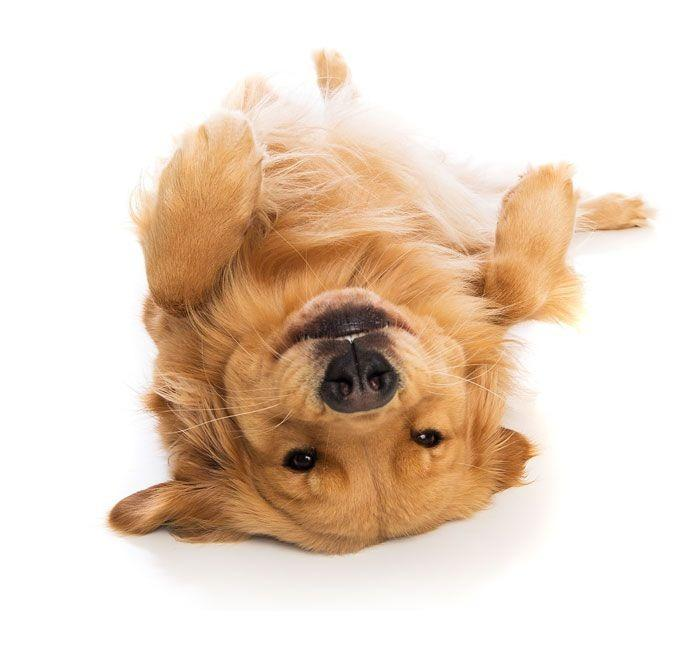adult_dog: (104, 46, 654, 555)
